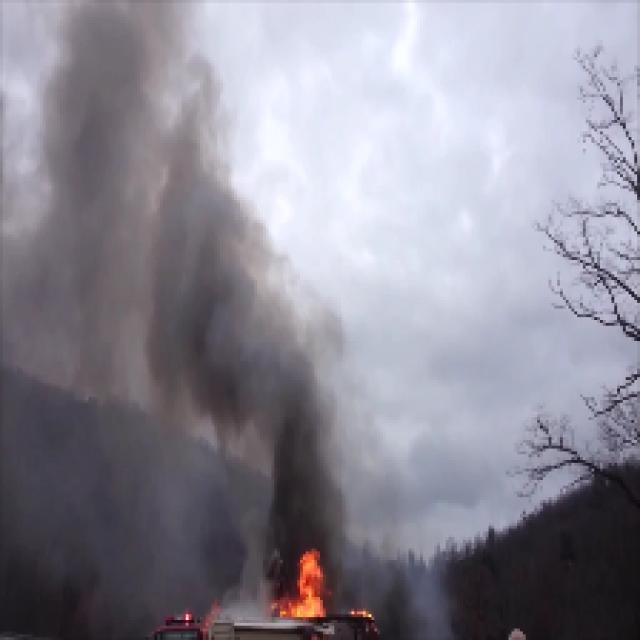Fire: (286, 550, 331, 623)
Smoke: (6, 0, 203, 615), (212, 216, 332, 533)
